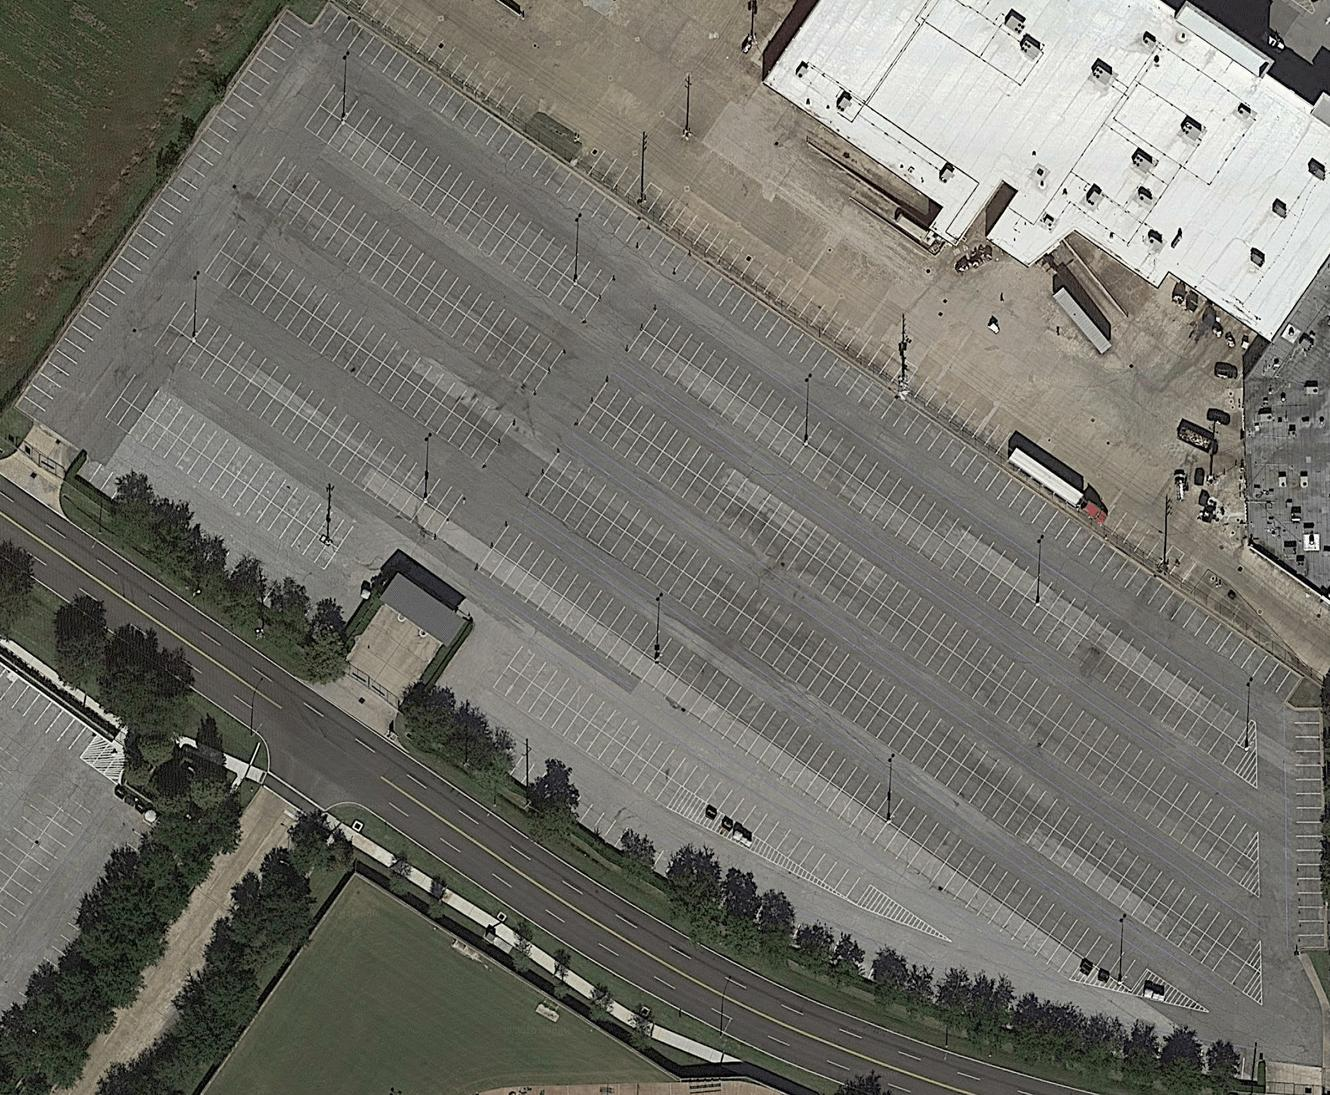parkingspot: (310, 1, 1303, 703), (527, 473, 1259, 994), (542, 451, 1263, 964), (576, 401, 1256, 887), (593, 380, 1260, 856), (492, 523, 1149, 993), (625, 329, 1250, 773), (475, 547, 1087, 983), (642, 307, 1253, 743), (13, 8, 312, 423), (507, 644, 873, 906), (508, 752, 878, 981), (303, 104, 600, 325), (219, 227, 515, 448), (319, 81, 615, 301), (268, 155, 564, 375), (203, 250, 500, 468), (168, 301, 465, 519), (253, 177, 551, 394), (154, 323, 450, 541), (646, 188, 909, 385), (119, 373, 356, 551), (104, 396, 340, 571), (492, 665, 683, 810), (355, 0, 528, 122), (0, 796, 93, 937), (901, 366, 1025, 464), (0, 663, 101, 761), (0, 780, 71, 895), (1294, 709, 1327, 950), (573, 140, 653, 207), (1098, 503, 1175, 569), (73, 453, 127, 503), (1169, 552, 1211, 593), (0, 746, 21, 790)
